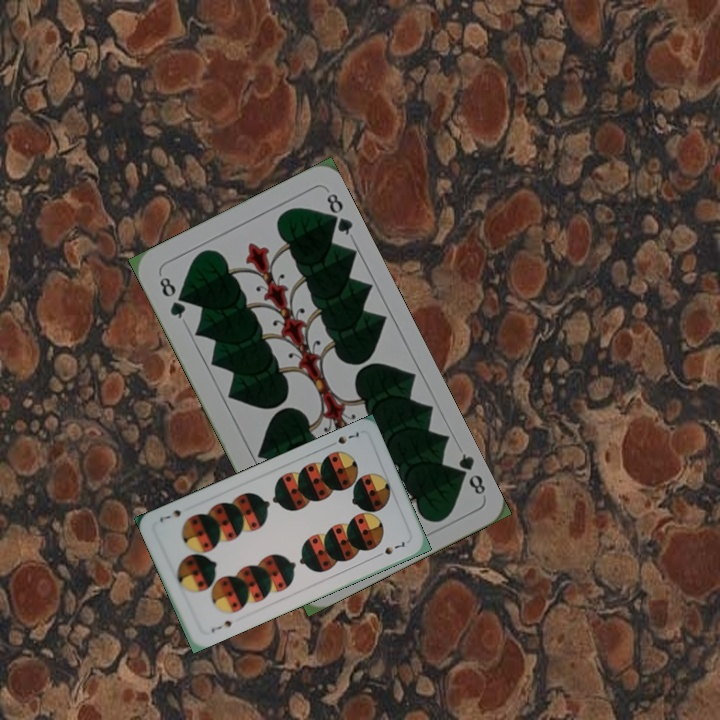G8: (449, 449, 489, 498), (155, 272, 189, 322)
S7: (324, 428, 362, 449), (207, 616, 234, 635)
